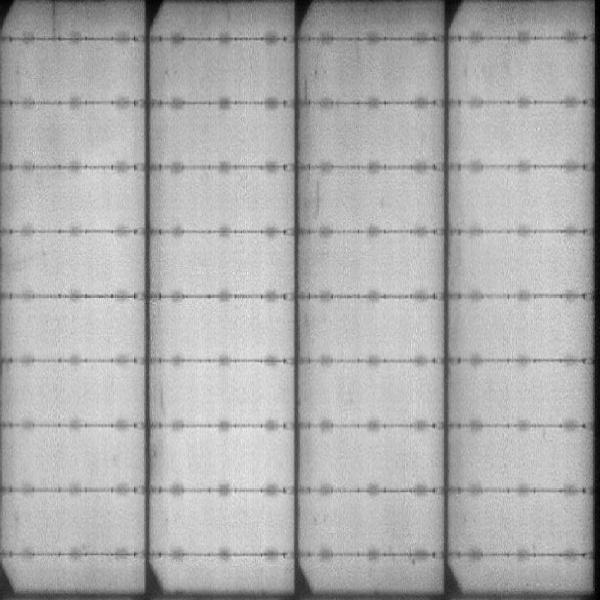scratch: (309, 177, 323, 222), (47, 1, 64, 38)
